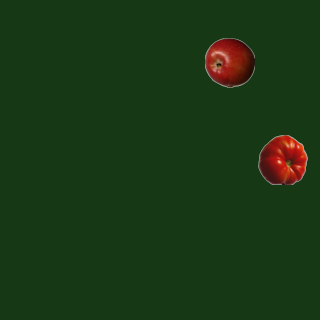Apple Braeburn: (204, 37, 254, 87)
Tomato 3: (257, 134, 307, 184)
